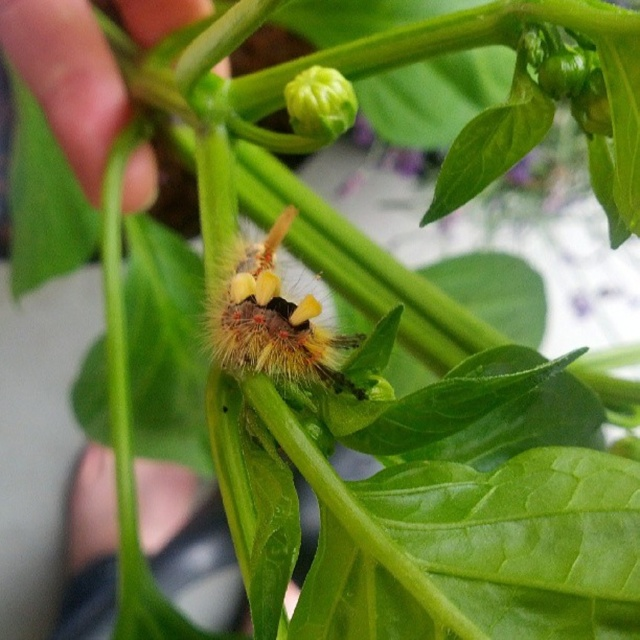Caterpillar: (187, 209, 362, 402)
